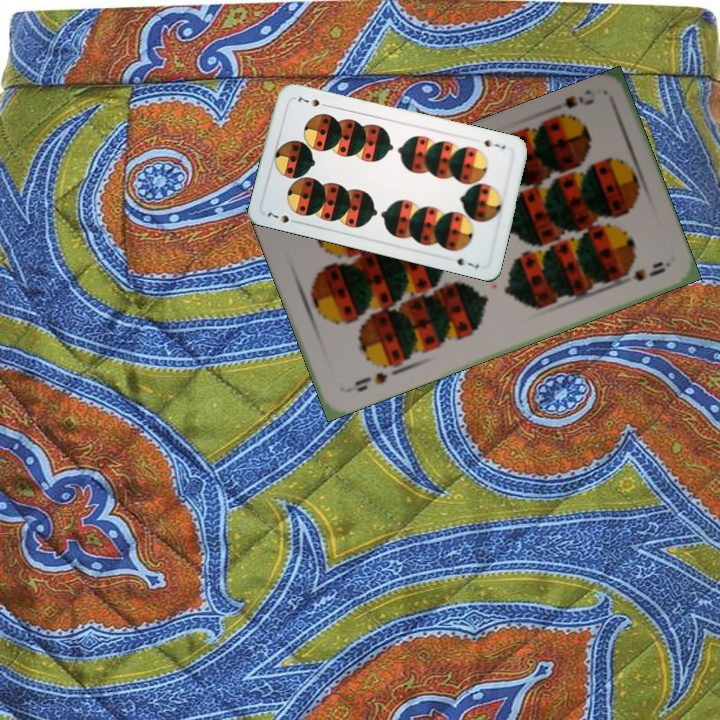S7: (263, 208, 302, 226), (480, 136, 508, 152)
S9: (545, 91, 597, 121), (350, 368, 391, 395)
